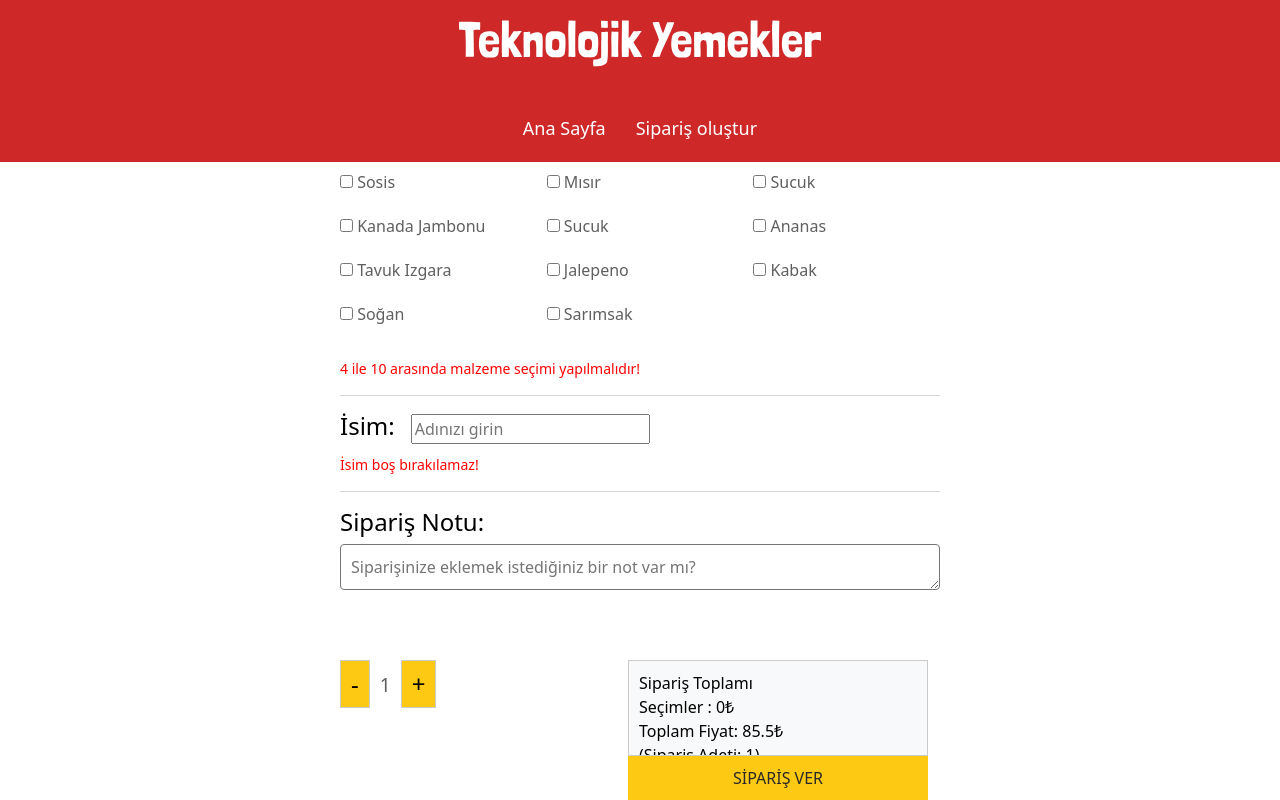
Test: Formdosyasi Component › - ve + butonaları düzgün çalışıyor mu ?
(page scrolled)
Click the button "+" at x=419, y=684, box [401,660,437,708]
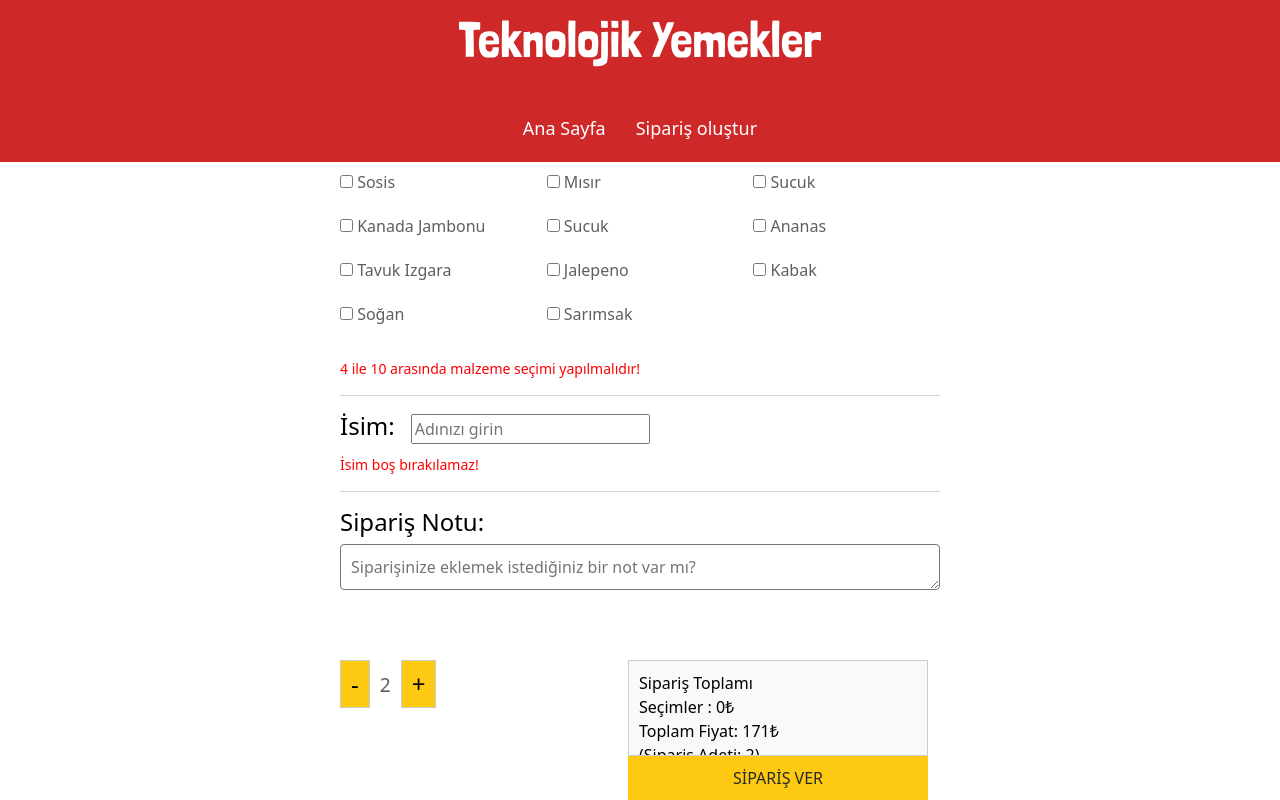
Now the heading "2" is shown, box [380,673,391,696]
Click the button "-" at x=355, y=684, box [340,660,370,708]
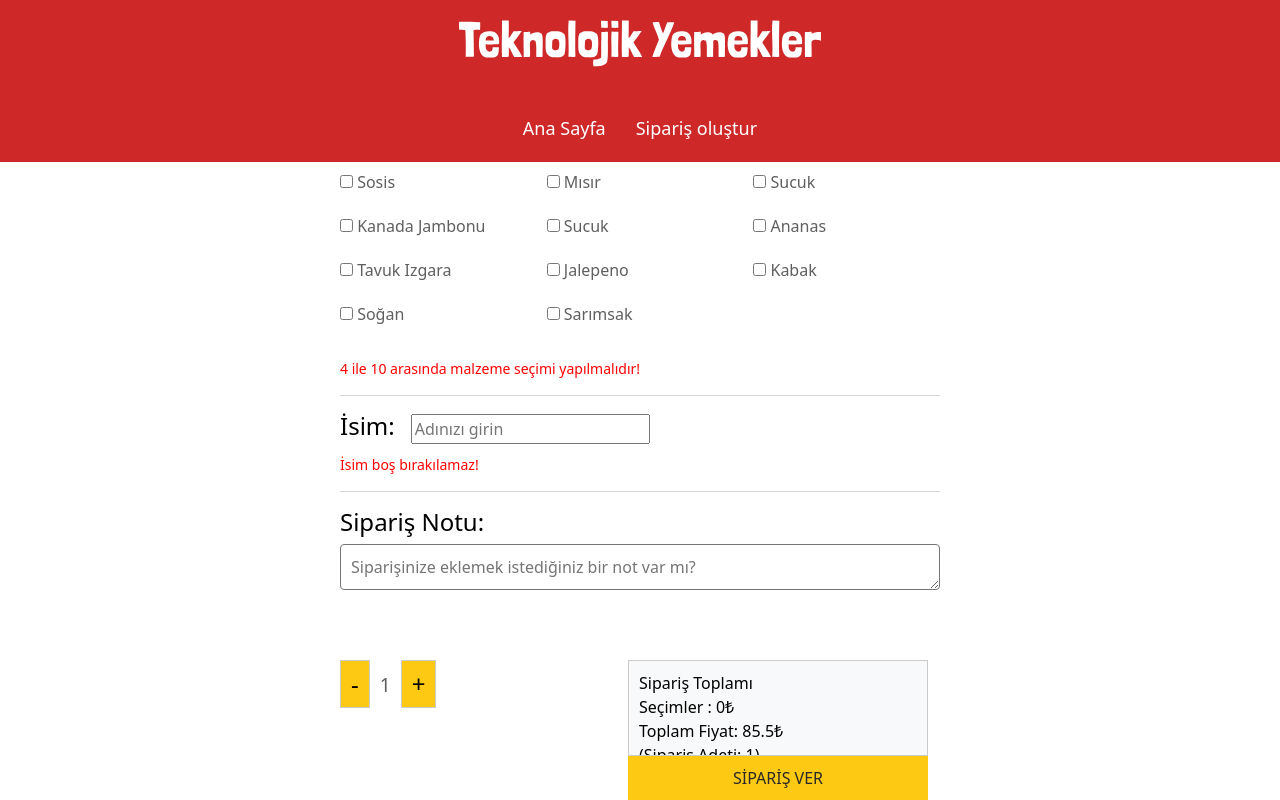
Now the heading "1" is shown, box [380,673,391,696]
